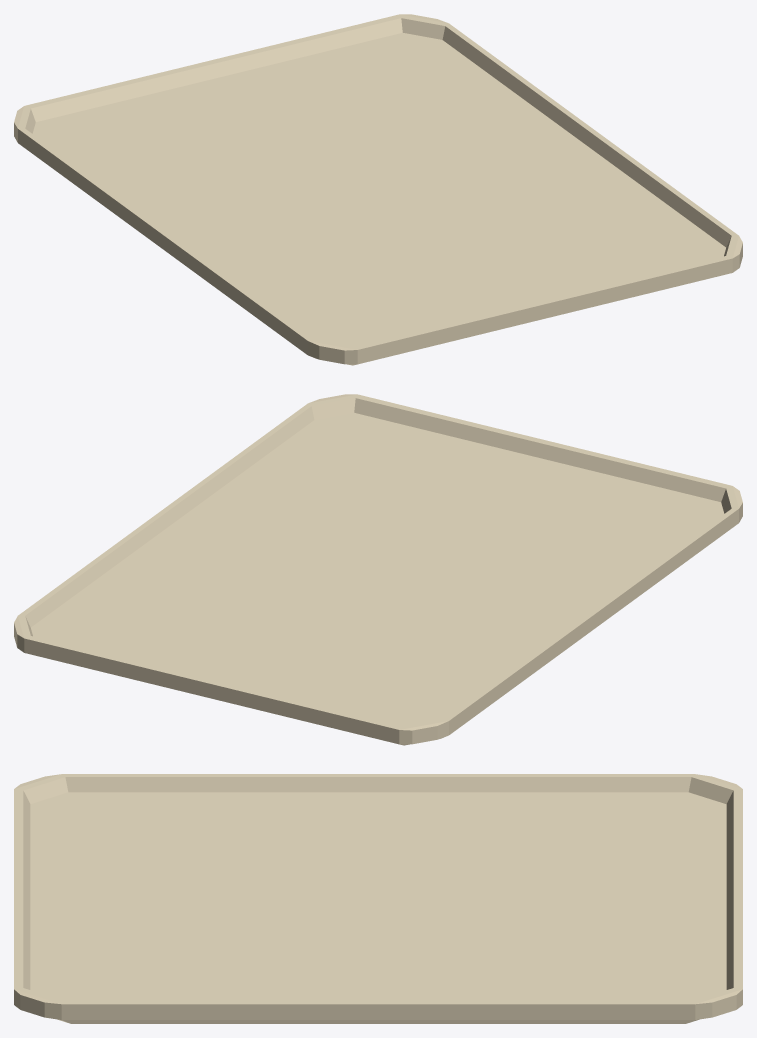
Rendered from tray.fbx.
3 views of the same model, one above another, from view 1: azimuth 30°, elevation 25°; view 2: azimuth 150°, elevation 25°; view 3: azimuth 270°, elevation 25° (orthographic). The views are drawn at different scales.
Parts seen in each view (by area): view 1: Cube; view 2: Cube; view 3: Cube.
Boxes of the visible parts, x1,y1,x2,y2 form: Cube: [14, 14, 742, 365]; Cube: [14, 394, 742, 745]; Cube: [14, 774, 742, 1023].
Size of the model in its own units: 247 by 13.33 by 331.
